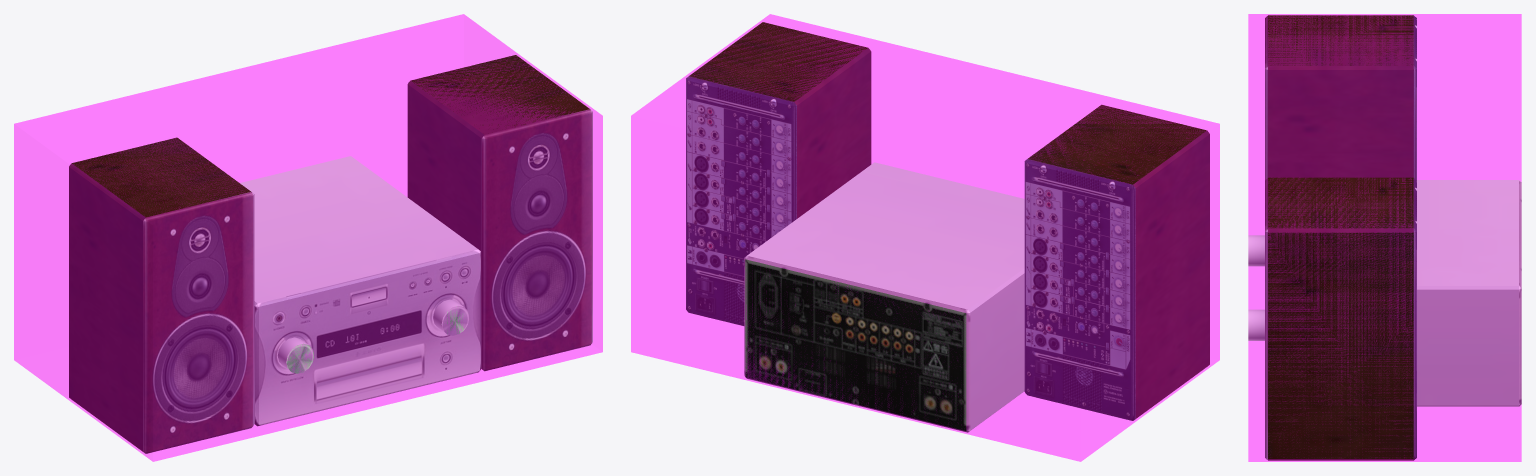
The model's file is CDplayer.fbx.
3 views of the same model, side by side, from view 1: azimuth 30°, elevation 25°; view 2: azimuth 150°, elevation 25°; view 3: azimuth 270°, elevation 25° (orthographic).
Visible parts, largest first — view 1: CDplayer_boundingbox, CDplayer; view 2: CDplayer_boundingbox, CDplayer; view 3: CDplayer, CDplayer_boundingbox.
Part boxes in pixels (box(x1,y1,x2,y2)): CDplayer_boundingbox: box(14, 14, 602, 461); CDplayer: box(69, 55, 592, 453); CDplayer_boundingbox: box(631, 14, 1219, 461); CDplayer: box(686, 22, 1209, 432); CDplayer: box(1248, 15, 1521, 460); CDplayer_boundingbox: box(1248, 14, 1521, 461).
Bounding box in the file's own units: 59.73 × 30 × 31.98.
Materials: 5 (4 with a texture image).
